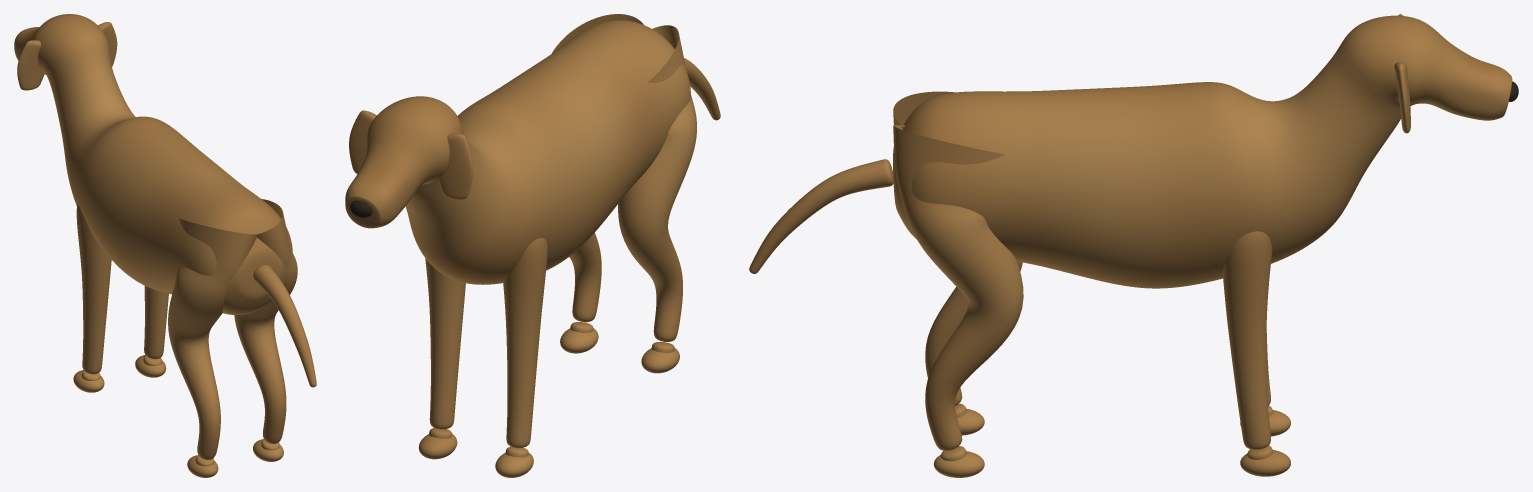
Rendered from dog_large_yellow_standing.gltf.
3 views of the same model, side by side, from view 1: azimuth 30°, elevation 25°; view 2: azimuth 150°, elevation 25°; view 3: azimuth 270°, elevation 25° (orthographic). The views are drawn at different scales.
Parts seen in each view (by area): view 1: dog_large; view 2: dog_large; view 3: dog_large.
Part boxes in pixels (left/top/right/bottom): dog_large: left=14, top=14, right=316, bottom=477; dog_large: left=345, top=14, right=720, bottom=477; dog_large: left=749, top=14, right=1518, bottom=477.
Bounding box in the file's own units: 0.2932 × 0.812 × 1.31.
